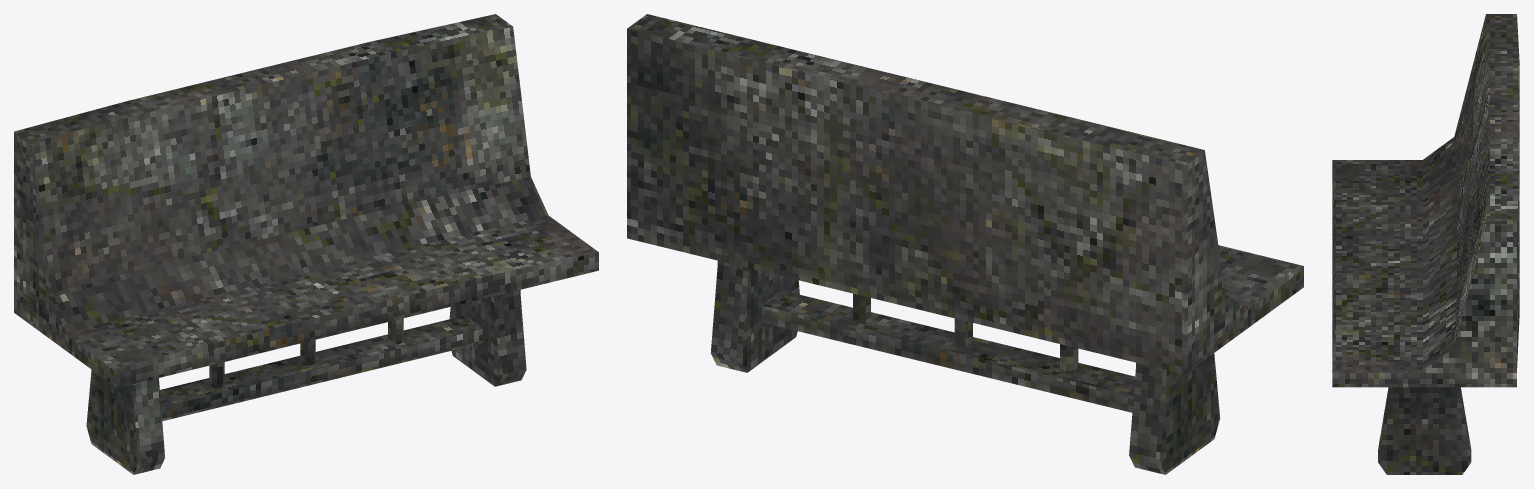
File: Bench_1.gltf
3 renders of one model, left to right at view 1: azimuth 30°, elevation 25°; view 2: azimuth 150°, elevation 25°; view 3: azimuth 270°, elevation 25°, orthographic. The views are drawn at different scales.
Parts seen in each view (by area): view 1: Bench_1; view 2: Bench_1; view 3: Bench_1.
Boxes of the visible parts, x1=… form: Bench_1: x1=14, y1=14, x2=598, y2=474; Bench_1: x1=627, y1=14, x2=1303, y2=474; Bench_1: x1=1332, y1=14, x2=1519, y2=474.
Size of the model in its own units: 7.52 by 4.52 by 2.82.
Materials: 1 (1 with a texture image).
